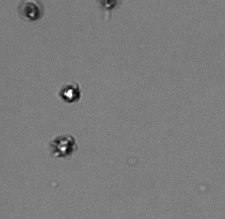Dead Cell: (52, 134, 75, 158), (22, 1, 41, 21), (99, 1, 120, 9)
Living Cell: (60, 83, 82, 103)
